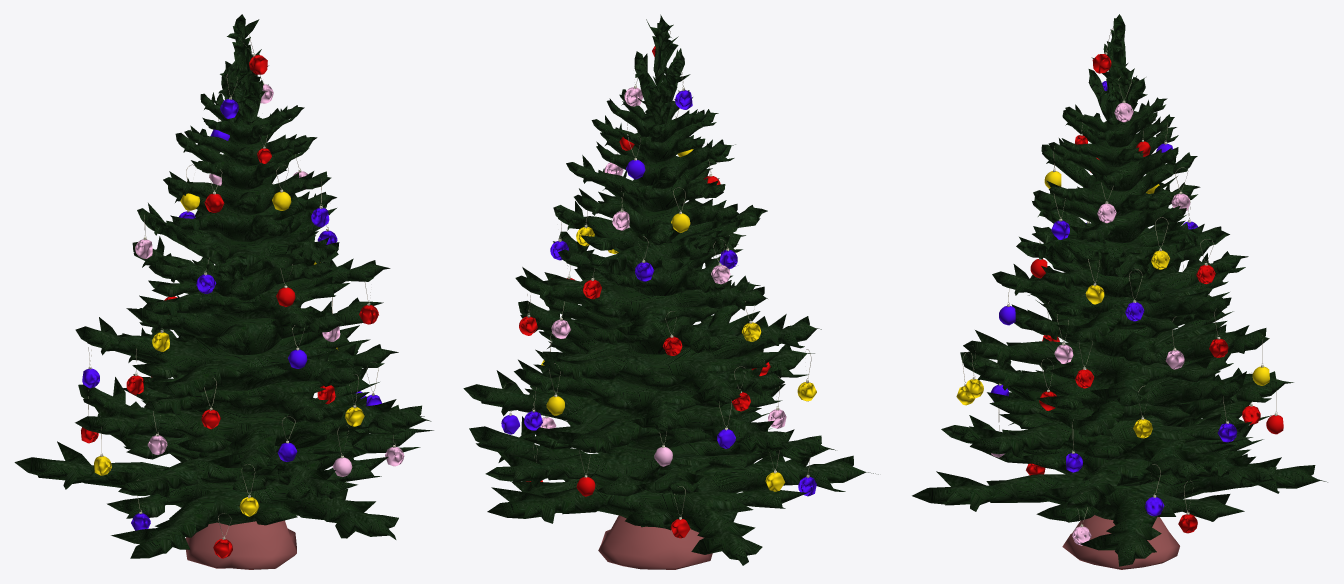
The model's file is tree.glb.
The picture shows the model from 3 angles, left to right: view 1: azimuth 30°, elevation 25°; view 2: azimuth 150°, elevation 25°; view 3: azimuth 270°, elevation 25°; orthographic projection.
Parts seen in each view (by area): view 1: ChristmasTree; view 2: ChristmasTree; view 3: ChristmasTree.
Boxes of the visible parts, box(x1,y1,x2,y2) form: ChristmasTree: box(14, 14, 433, 569); ChristmasTree: box(463, 14, 878, 569); ChristmasTree: box(912, 14, 1327, 569).
Size of the model in its own units: 10.07 by 14.3 by 10.21.
Materials: 8 (1 with a texture image).
